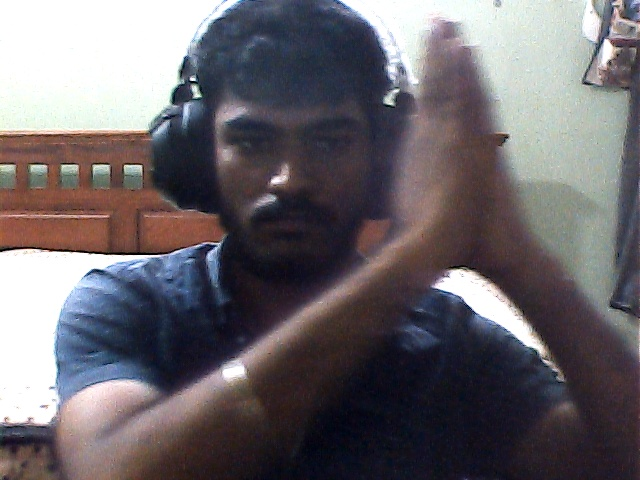Sign: (388, 1, 539, 272)
